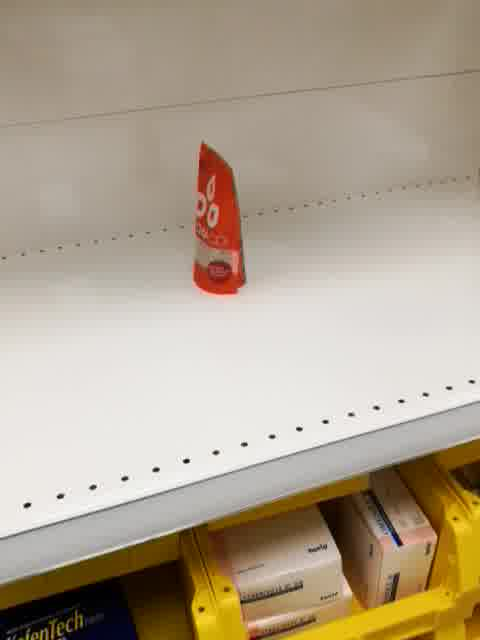whitechia: (187, 140, 249, 298)
